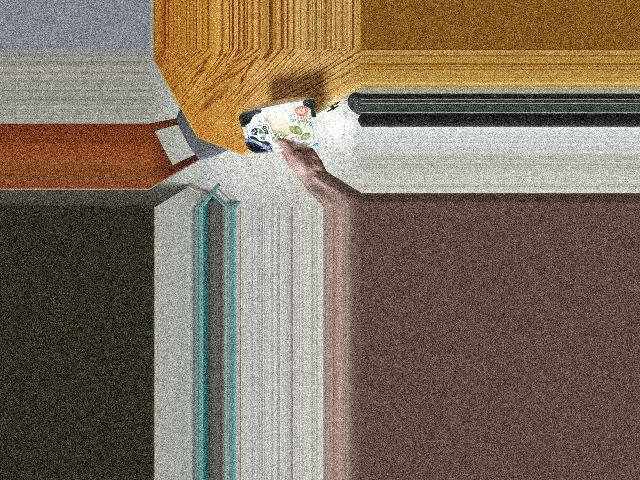cheese: (248, 98, 304, 160)
